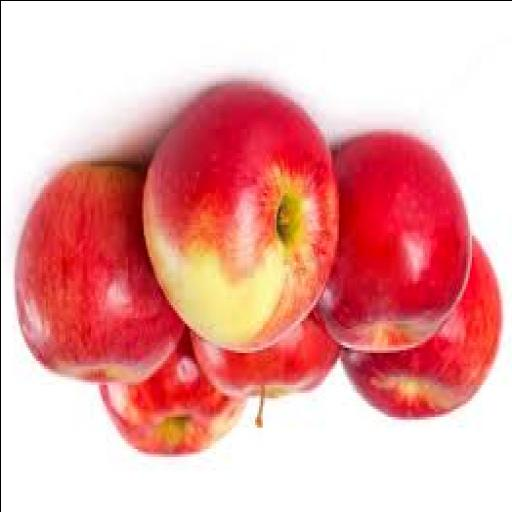apple: (143, 86, 338, 349), (14, 163, 181, 381), (317, 134, 470, 352), (341, 241, 500, 418), (100, 329, 244, 456), (190, 315, 340, 426)
